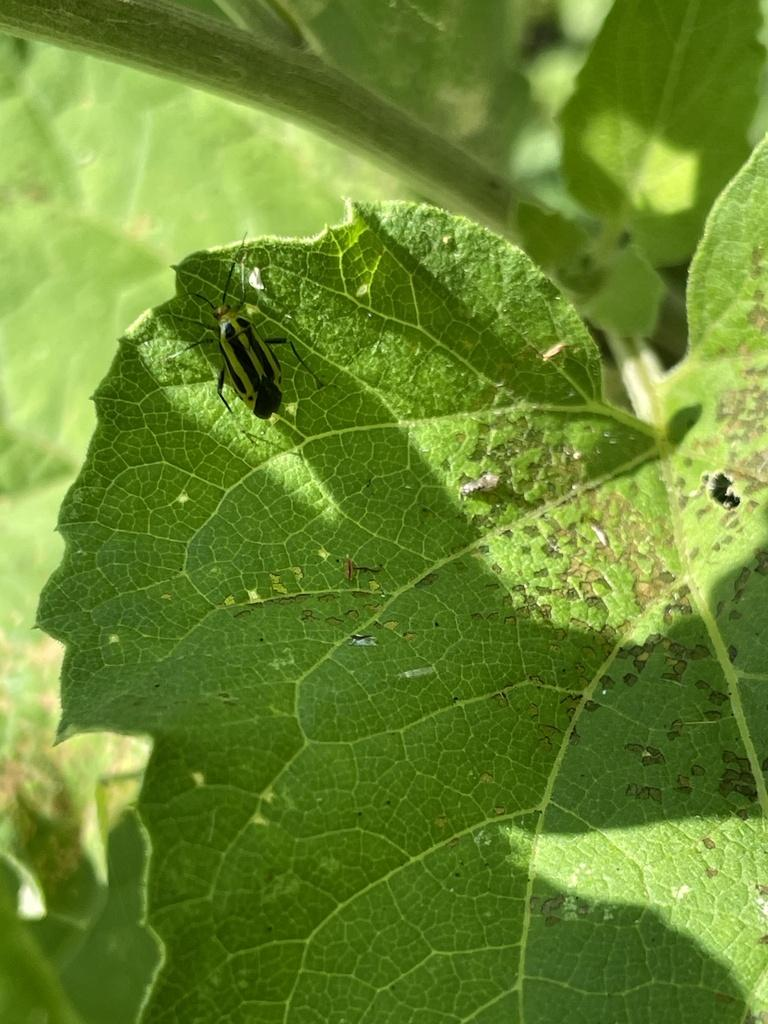plant_bugs: (130, 207, 360, 454)
